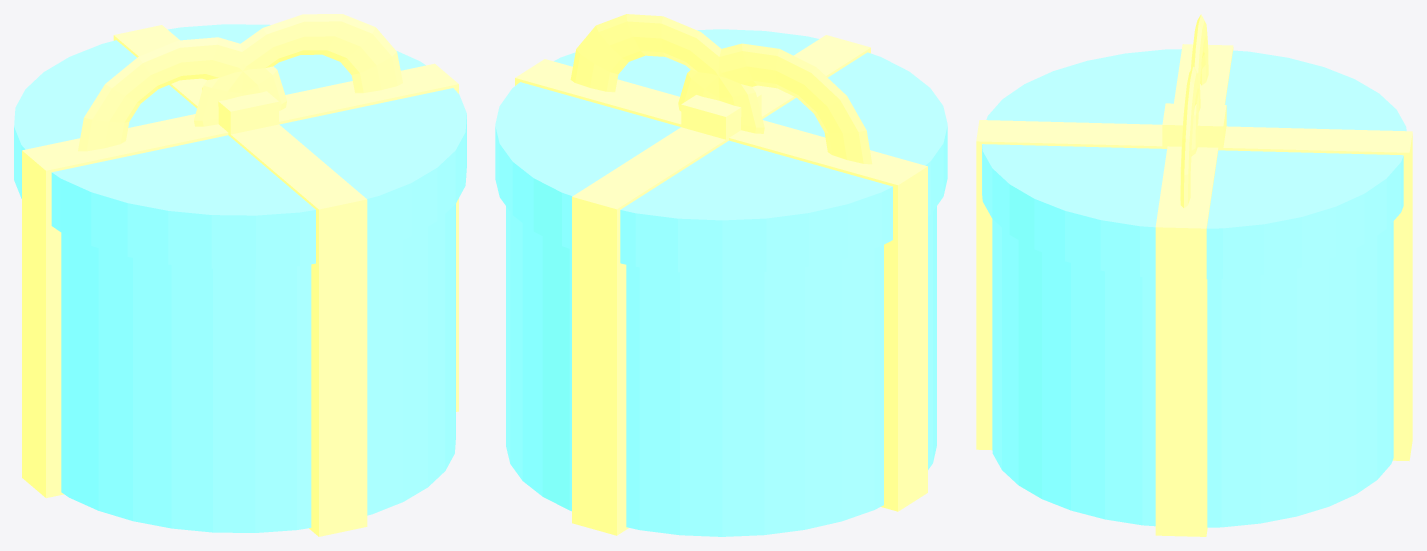
File: Tmpl_Round_Root_225.glb
3 views of the same model, side by side, from view 1: azimuth 30°, elevation 25°; view 2: azimuth 150°, elevation 25°; view 3: azimuth 270°, elevation 25° (orthographic). The views are drawn at different scales.
Visible parts, largest first — view 1: Tmpl_Round_Base.223, Tmpl_Round_Lid.223, Tmpl_Round_Ribbon_Y.223, Tmpl_Round_Ribbon_X.223, Tmpl_Round_BowR.223, Tmpl_Round_BowL.223, Tmpl_Round_BowKnot.223; view 2: Tmpl_Round_Base.223, Tmpl_Round_Lid.223, Tmpl_Round_Ribbon_Y.223, Tmpl_Round_Ribbon_X.223, Tmpl_Round_BowR.223, Tmpl_Round_BowL.223, Tmpl_Round_BowKnot.223; view 3: Tmpl_Round_Base.223, Tmpl_Round_Lid.223, Tmpl_Round_Ribbon_X.223, Tmpl_Round_Ribbon_Y.223, Tmpl_Round_BowKnot.223, Tmpl_Round_BowR.223, Tmpl_Round_BowL.223.
Boxes of the visible parts, bbox=[...] form: Tmpl_Round_Base.223: bbox=[61, 204, 455, 532]; Tmpl_Round_Lid.223: bbox=[14, 24, 466, 269]; Tmpl_Round_Ribbon_Y.223: bbox=[113, 25, 367, 536]; Tmpl_Round_Ribbon_X.223: bbox=[22, 63, 458, 498]; Tmpl_Round_BowR.223: bbox=[194, 14, 402, 126]; Tmpl_Round_BowL.223: bbox=[78, 37, 286, 151]; Tmpl_Round_BowKnot.223: bbox=[202, 87, 278, 136]; Tmpl_Round_Base.223: bbox=[506, 206, 936, 536]; Tmpl_Round_Lid.223: bbox=[495, 29, 947, 273]; Tmpl_Round_Ribbon_Y.223: bbox=[572, 35, 870, 535]; Tmpl_Round_Ribbon_X.223: bbox=[515, 59, 927, 511]; Tmpl_Round_BowR.223: bbox=[570, 14, 764, 133]; Tmpl_Round_BowL.223: bbox=[678, 43, 872, 164]; Tmpl_Round_BowKnot.223: bbox=[681, 92, 761, 141]; Tmpl_Round_Base.223: bbox=[992, 219, 1393, 527]; Tmpl_Round_Lid.223: bbox=[982, 49, 1406, 279]; Tmpl_Round_Ribbon_X.223: bbox=[1155, 44, 1233, 536]; Tmpl_Round_Ribbon_Y.223: bbox=[976, 120, 1412, 461]; Tmpl_Round_BowKnot.223: bbox=[1162, 103, 1226, 150]; Tmpl_Round_BowR.223: bbox=[1180, 66, 1200, 207]; Tmpl_Round_BowL.223: bbox=[1190, 14, 1208, 156].
Size of the model in its own units: 0.8836 by 0.8774 by 0.8836.
